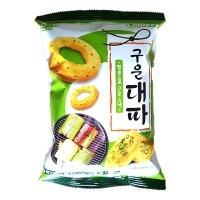snack: (34, 9, 166, 190)
